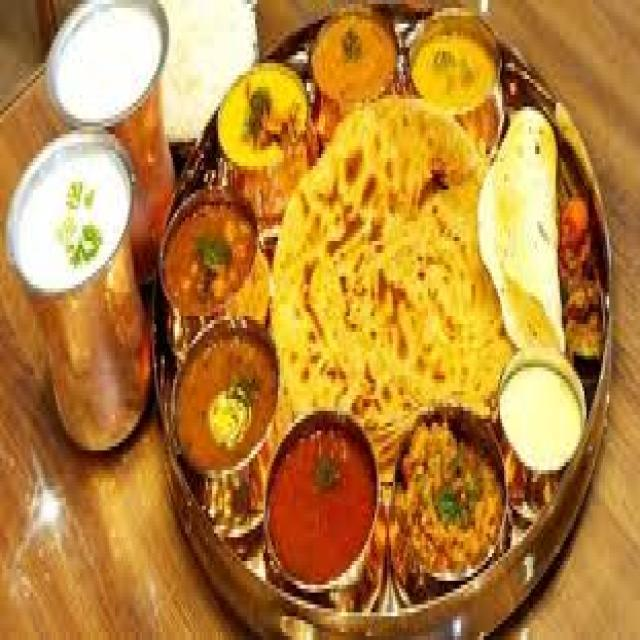curd: (0, 120, 145, 306), (495, 354, 595, 481)
papad: (477, 118, 573, 349)
rice: (276, 113, 494, 411)
sambar-rasam: (262, 403, 380, 592)
sweet: (166, 318, 279, 475)
veg-fry: (154, 181, 267, 338), (306, 0, 398, 112)
